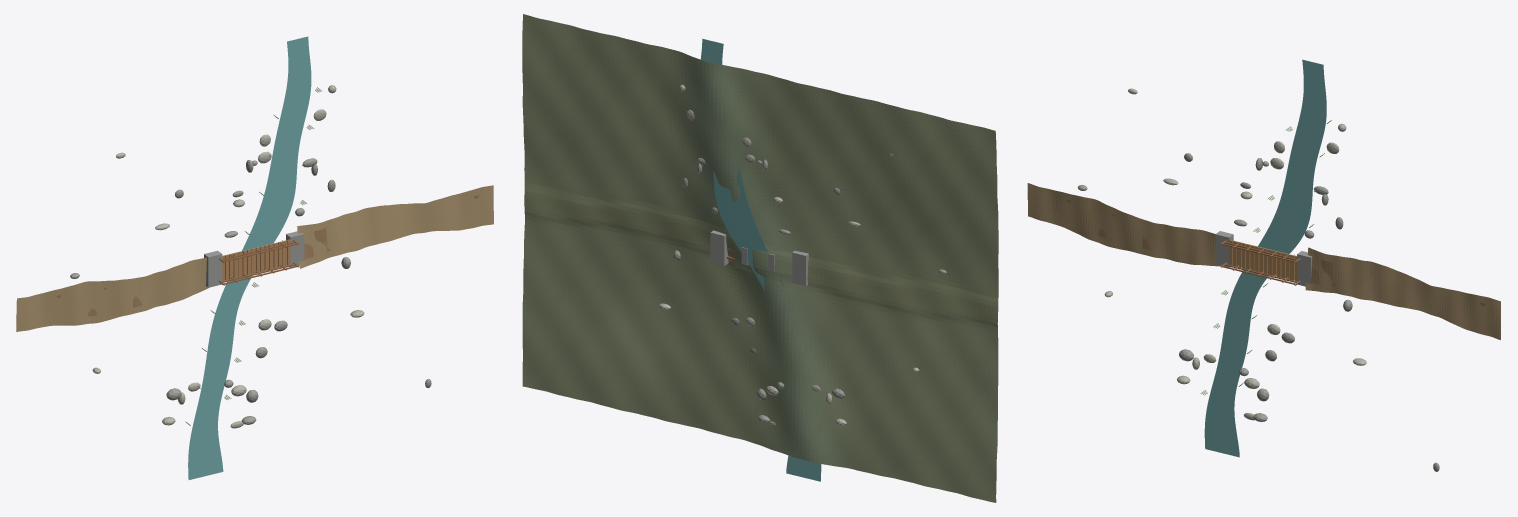
Rendered from barrosan_infrastructure_v0378.glb.
3 renders of one model, left to right at view 1: azimuth 30°, elevation 25°; view 2: azimuth 150°, elevation 25°; view 3: azimuth 330°, elevation 25°, orthographic.
Visible parts, largest first — view 1: Water, Road_0, Road_2, Abutment_-6.2; view 2: Terrain, Water, Abutment_6.2, Abutment_-6.2; view 3: Water, Road_0, Road_2.
Part boxes in pixels (x1,y1,x2,y2): Water: (188,36,311,479); Road_0: (16,257,208,331); Road_2: (297,185,493,268); Abutment_-6.2: (204,250,222,287); Terrain: (522,14,998,502); Water: (700,38,821,481); Abutment_6.2: (710,230,728,266); Abutment_-6.2: (792,251,808,285); Water: (1204,59,1326,457); Road_0: (1027,183,1220,266); Road_2: (1305,247,1500,339).
Bounding box in the file's own units: 72 × 60 × 3.55.
